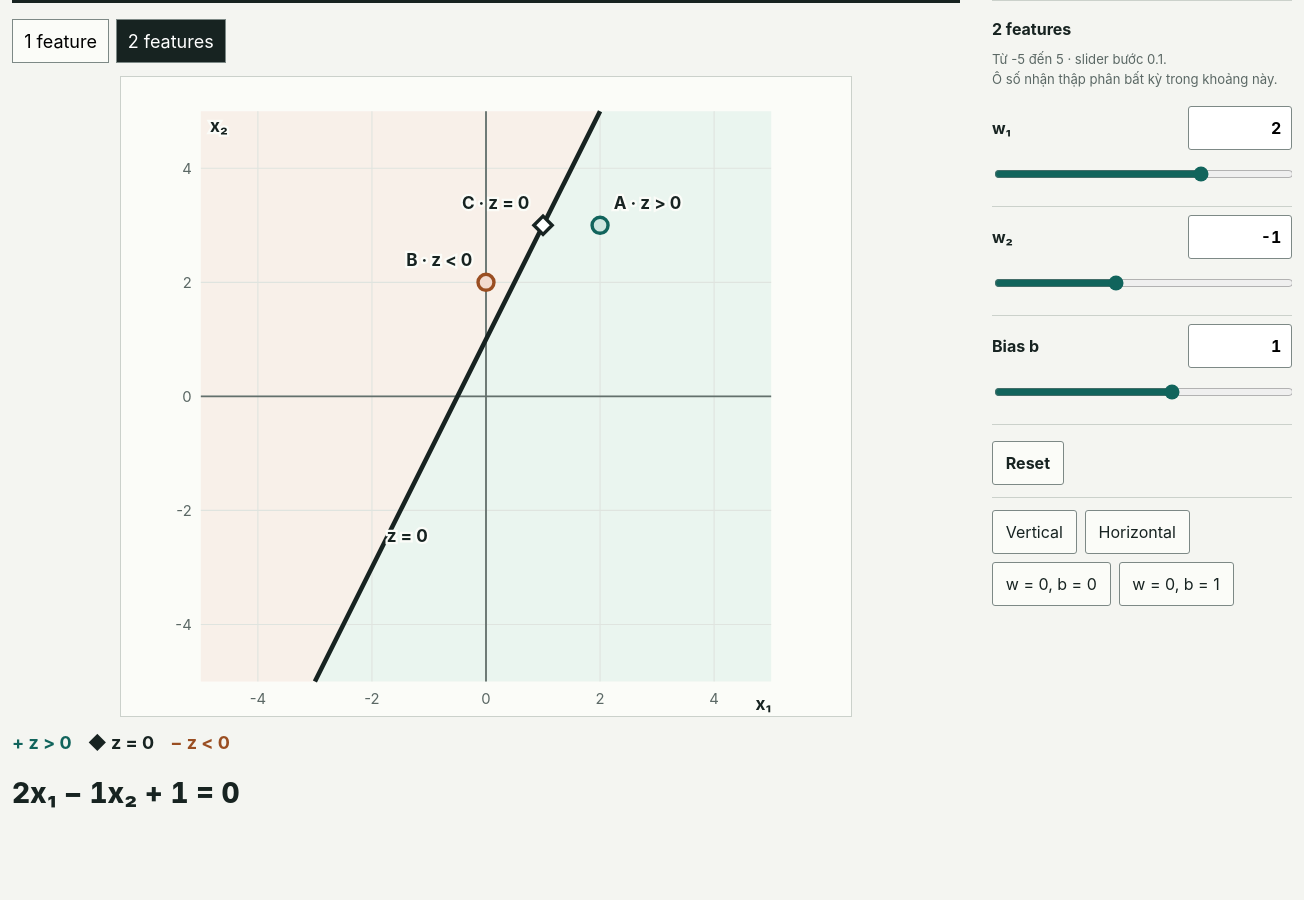
Test: geometry learning flows › updates the decision boundary equation and handles a degenerate model
Replace the text in the field labelled "w₁" with "1.5": (1240, 128) [1188,106,1292,150]
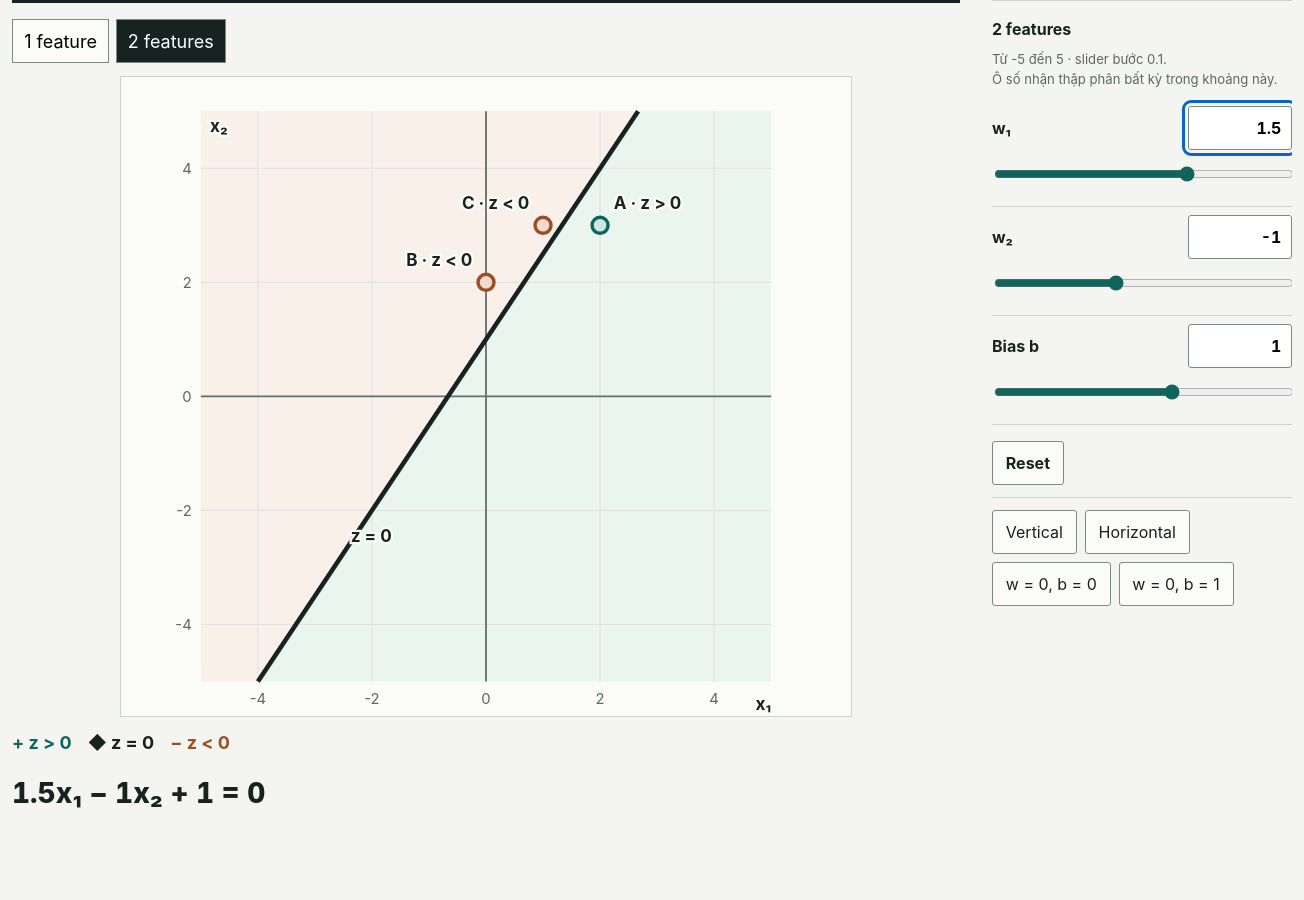
Expected: the text "1.5x₁ − 1x₂ + 1 = 0" is shown, [12,776,265,810]
Click the button "w = 0, b = 0": (1051, 584) [992,562,1110,606]
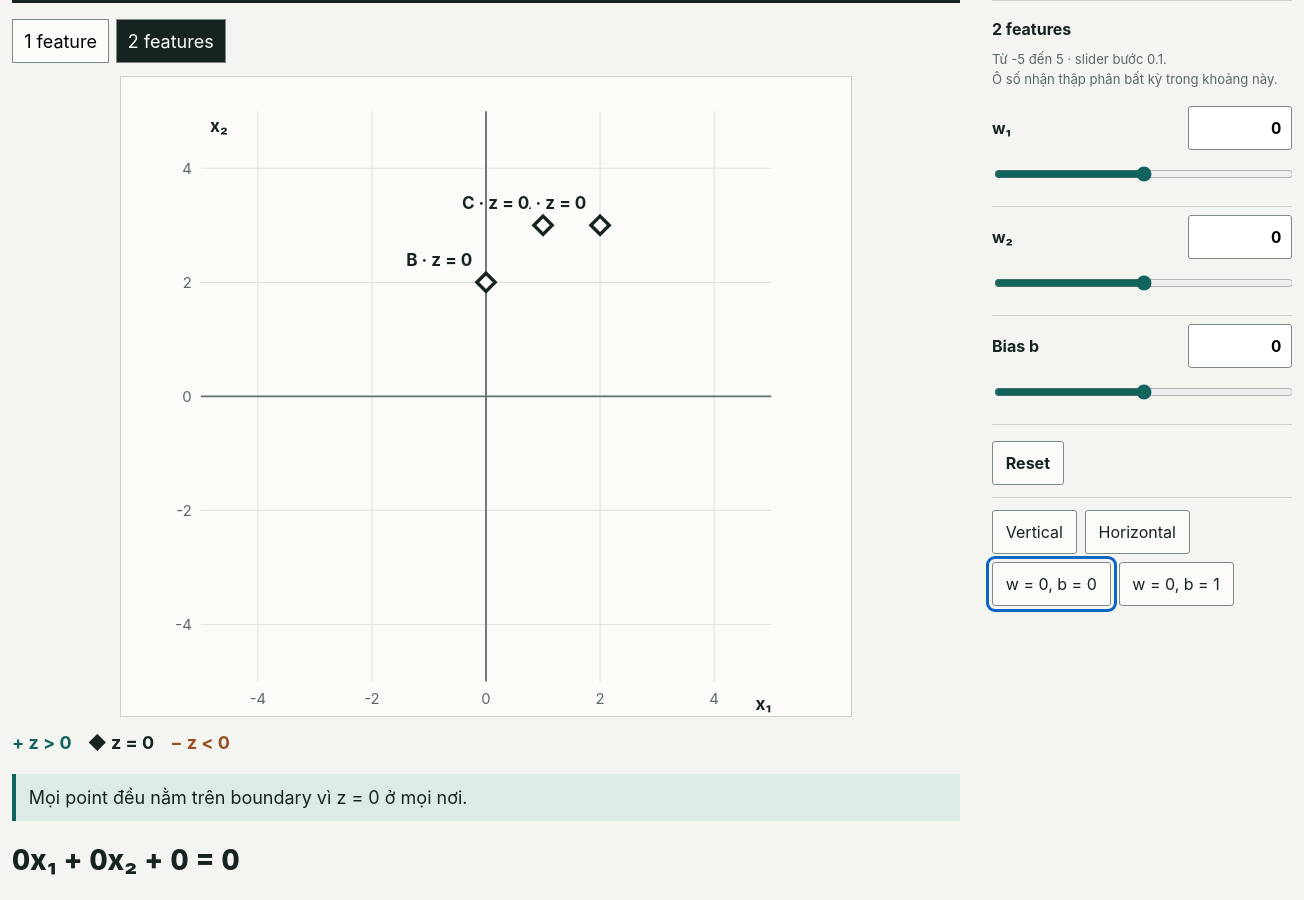
Expected: the text "Mọi point đều nằm trên boundary vì z = 0 ở mọi nơi." is shown, [12,774,960,821]
